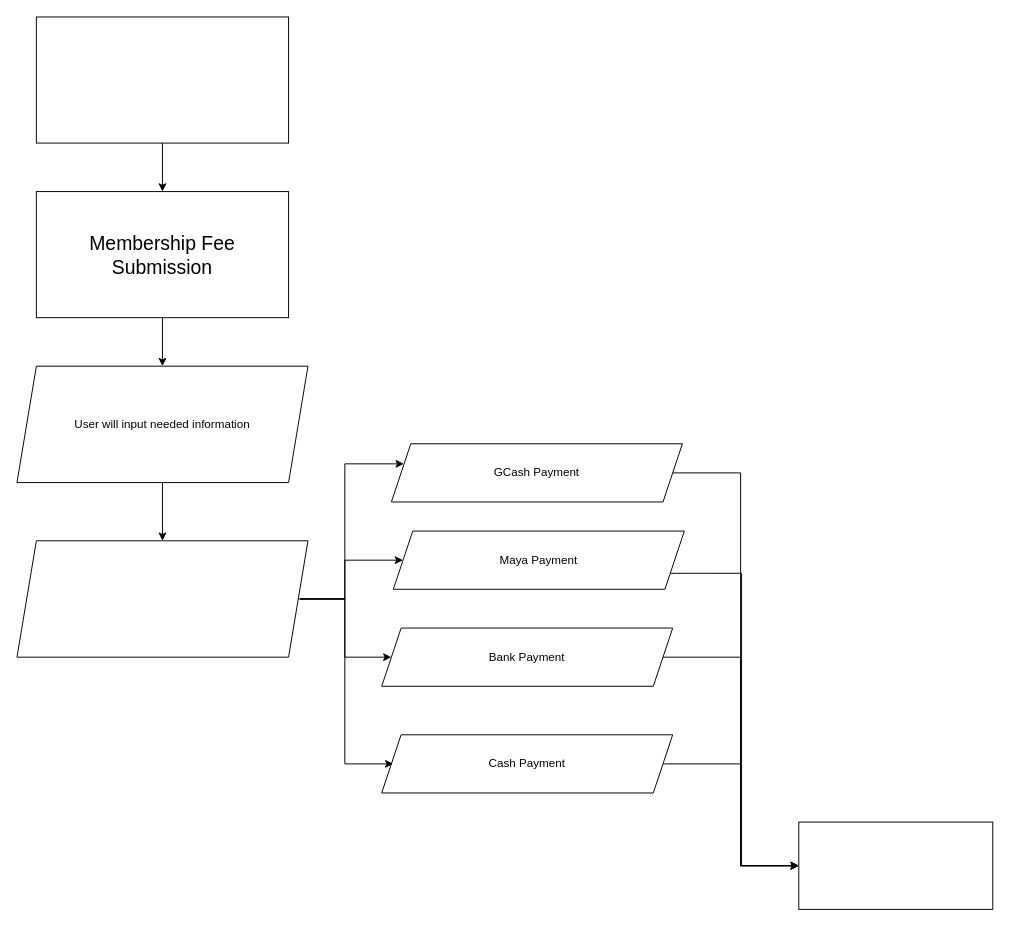
Some shapes in this 1010 by 926 pixel diagram are drawn without their labels. The centre of each missing label's shape, as x and y in pixels:
Dashboard: the point at 162,79
Submit form: the point at 895,865
User chose Payment Method: the point at 162,598
